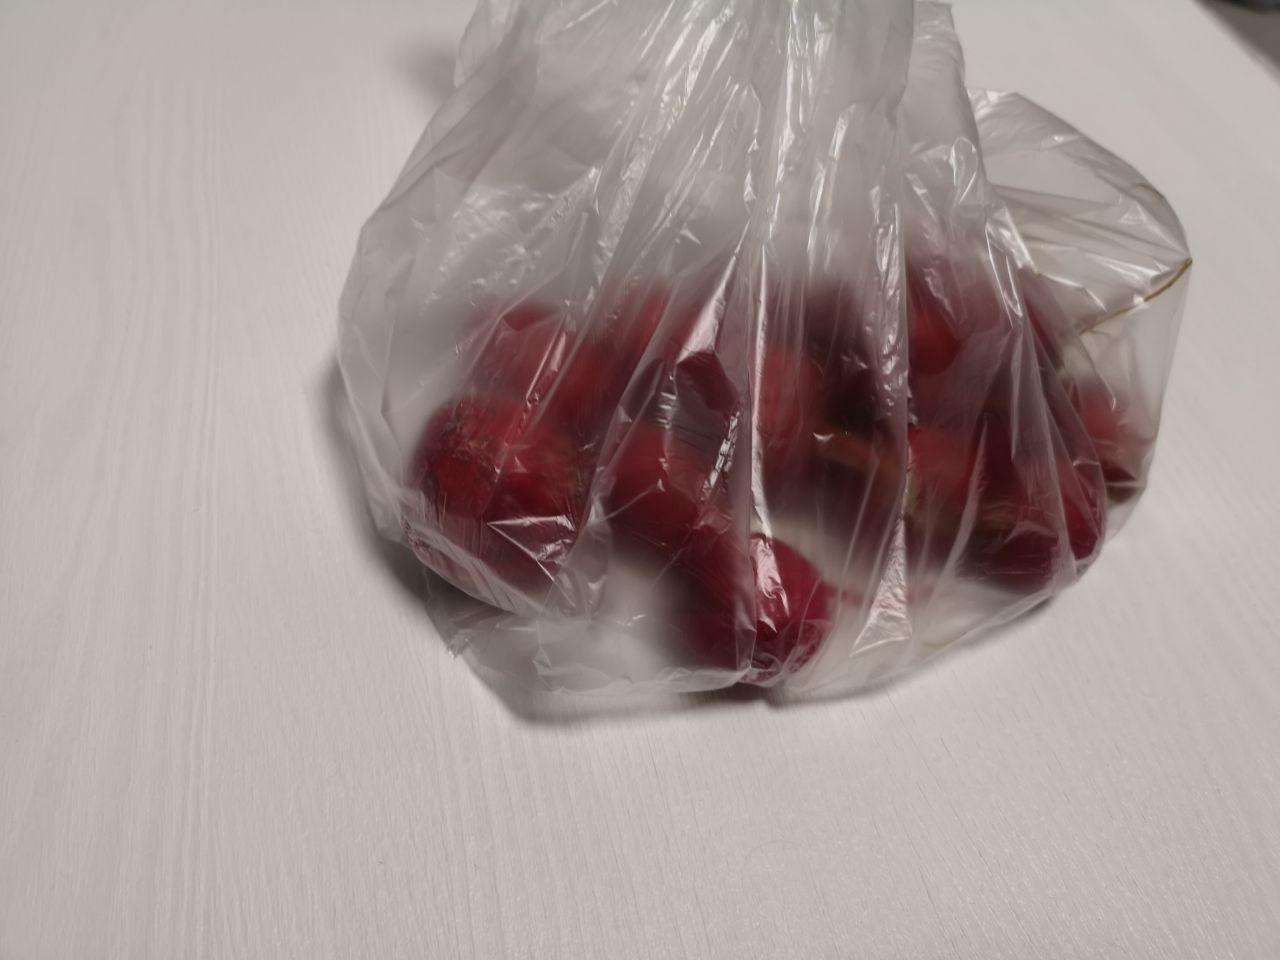redish: (335, 145, 1193, 710)
